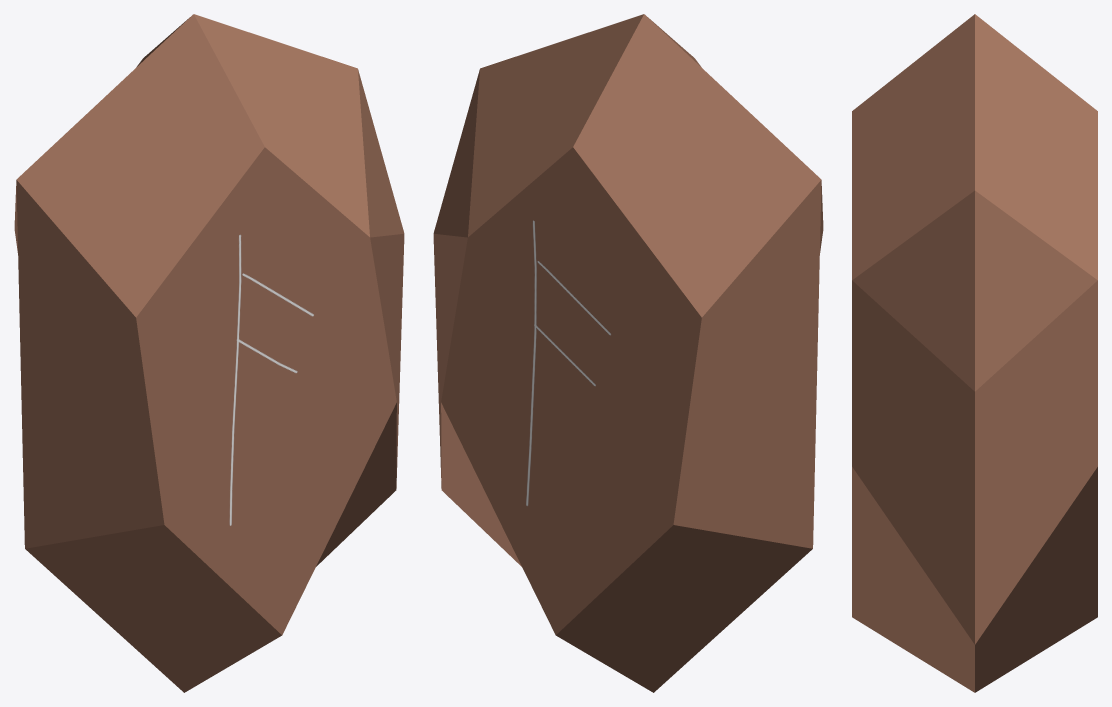
The model's file is rune_odinseye_textured.fbx.
3 views of the same model, side by side, from view 1: azimuth 30°, elevation 25°; view 2: azimuth 150°, elevation 25°; view 3: azimuth 270°, elevation 25° (orthographic).
Visible parts, largest first — view 1: Circle.003; view 2: Circle.003; view 3: Circle.003.
Part boxes in pixels (box(x1,y1,x2,y2)): Circle.003: box(14, 14, 404, 692); Circle.003: box(433, 14, 823, 692); Circle.003: box(852, 14, 1097, 692).
Bounding box in the file's own units: 21.82 × 36.36 × 11.84.
